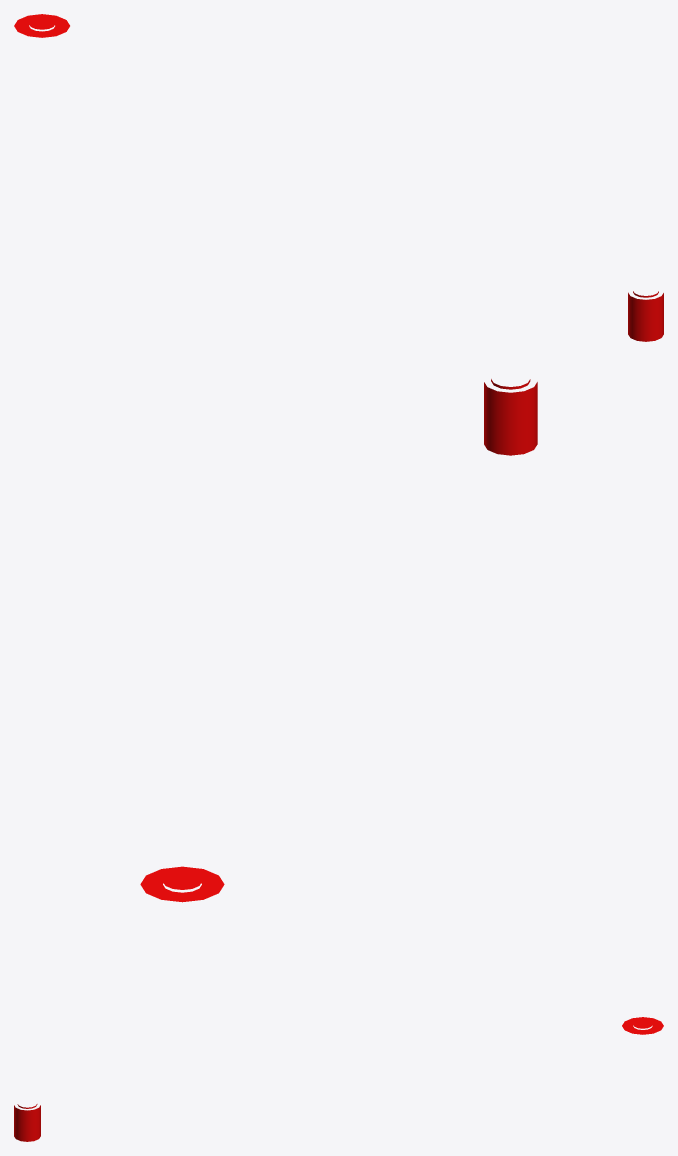
File: 04538a76-beb0-4547-89f1-ccd9a30887dd.glb
3 views of the same model, one above another, from view 1: azimuth 30°, elevation 25°; view 2: azimuth 150°, elevation 25°; view 3: azimuth 270°, elevation 25° (orthographic). The views are drawn at different scales.
Visible parts, largest first — view 1: 503, 44_1; view 2: 503, 44_1; view 3: 503, 44_1.
Part boxes in pixels (x1,y1,x2,y2): 503: [628, 291, 663, 341]; 44_1: [14, 14, 69, 37]; 503: [484, 379, 537, 455]; 44_1: [140, 866, 224, 902]; 503: [14, 1104, 40, 1141]; 44_1: [622, 1017, 663, 1034].
Bounding box in the file's own units: 7.01 × 1.72 × 22.73.
